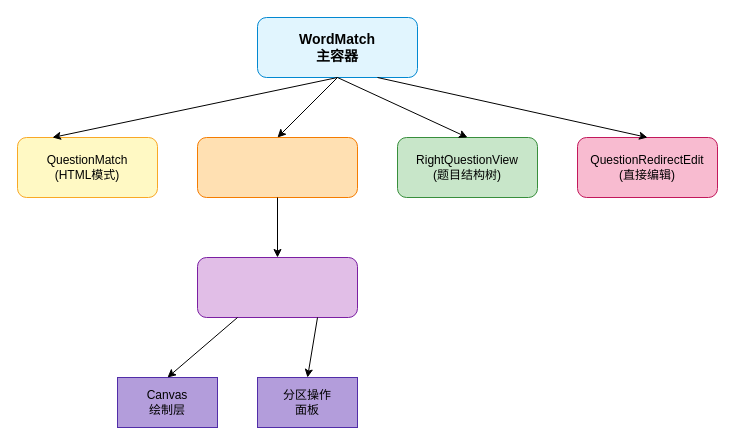
Image size: 735x445. Some labels were removed from this diagram. The box of each missing label's shape, as (x1, y1, x2, y2) in pixels:
ImageDivider (图片划分器): (196, 256, 358, 318)
ImageQuestionMatch (图片模式): (196, 136, 358, 198)
